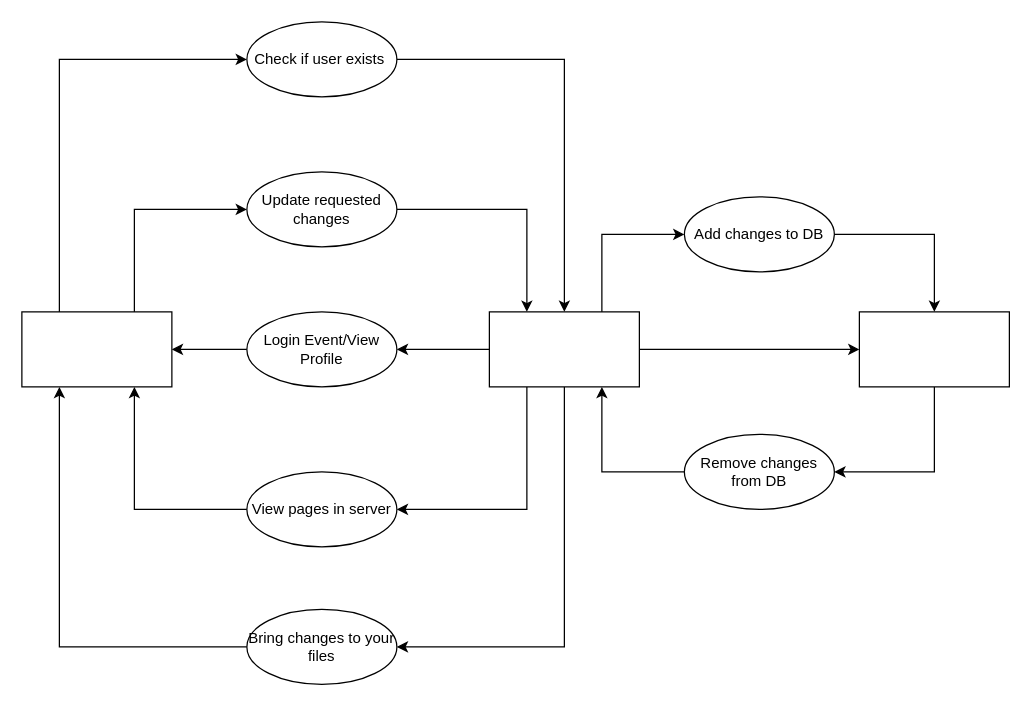
The diagram is 1031 pixels wide and 706 high, and some of its shapes have lost their labels. The box of each missing label's shape, as (x1, y1, x2, y2) in pixels:
DATABASE: (858, 311, 1009, 387)
SERVER: (488, 311, 639, 387)
USER: (21, 311, 172, 387)
